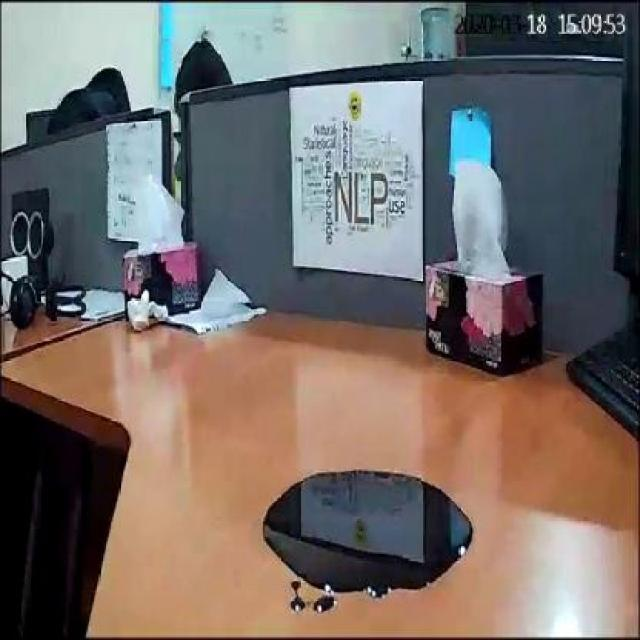spill: (258, 469, 482, 597)
